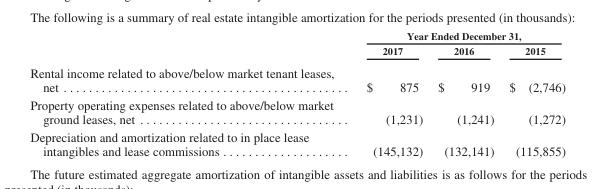table: (29, 29, 564, 157)
table column: (29, 29, 349, 157), (349, 29, 429, 157), (429, 29, 501, 157), (501, 29, 564, 157)
table column header: (29, 29, 564, 60)
table row: (29, 60, 564, 95), (29, 95, 564, 127), (29, 127, 564, 157), (29, 42, 564, 60), (29, 29, 564, 42)
table spanning cell: (349, 29, 564, 42)
